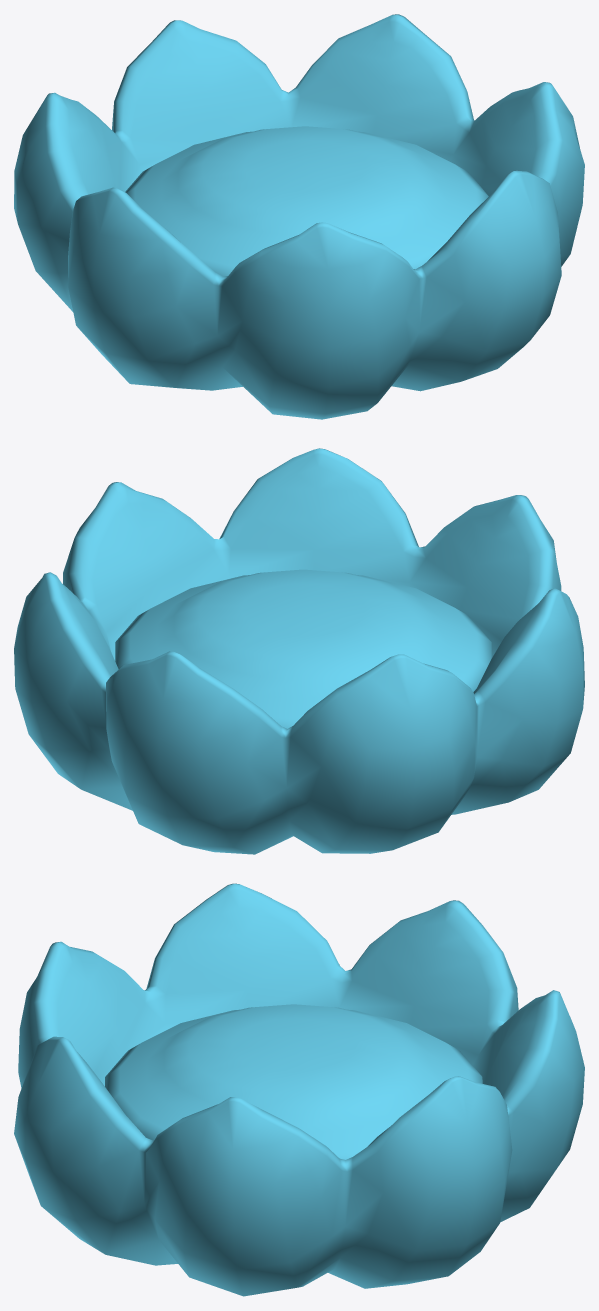
File: CharSkyKid_Prop_MoonlightLotusCushion.glb
The picture shows the model from 3 angles, top to bottom: view 1: azimuth 30°, elevation 25°; view 2: azimuth 150°, elevation 25°; view 3: azimuth 270°, elevation 25°; orthographic projection. The views are drawn at different scales.
Visible parts, largest first — view 1: CharSkyKid_Prop_MoonlightLotusCushion; view 2: CharSkyKid_Prop_MoonlightLotusCushion; view 3: CharSkyKid_Prop_MoonlightLotusCushion.
Boxes of the visible parts, x1=… form: CharSkyKid_Prop_MoonlightLotusCushion: x1=14, y1=14, x2=584, y2=419; CharSkyKid_Prop_MoonlightLotusCushion: x1=14, y1=448, x2=584, y2=854; CharSkyKid_Prop_MoonlightLotusCushion: x1=14, y1=883, x2=584, y2=1296.
Size of the model in its own units: 6.92 by 3.27 by 6.86.
1 material, 1 textured.
